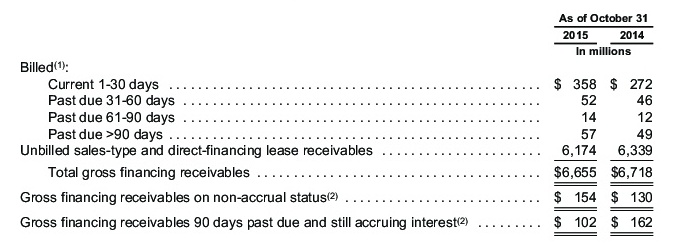table: (0, 0, 674, 248)
